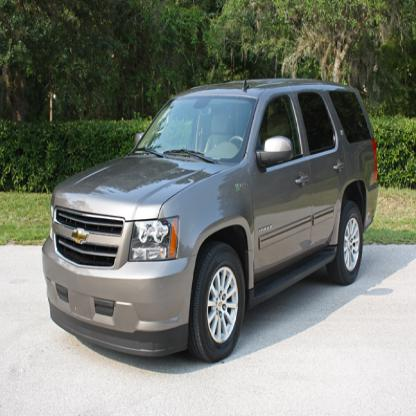Vehicle: (41, 74, 381, 366)
